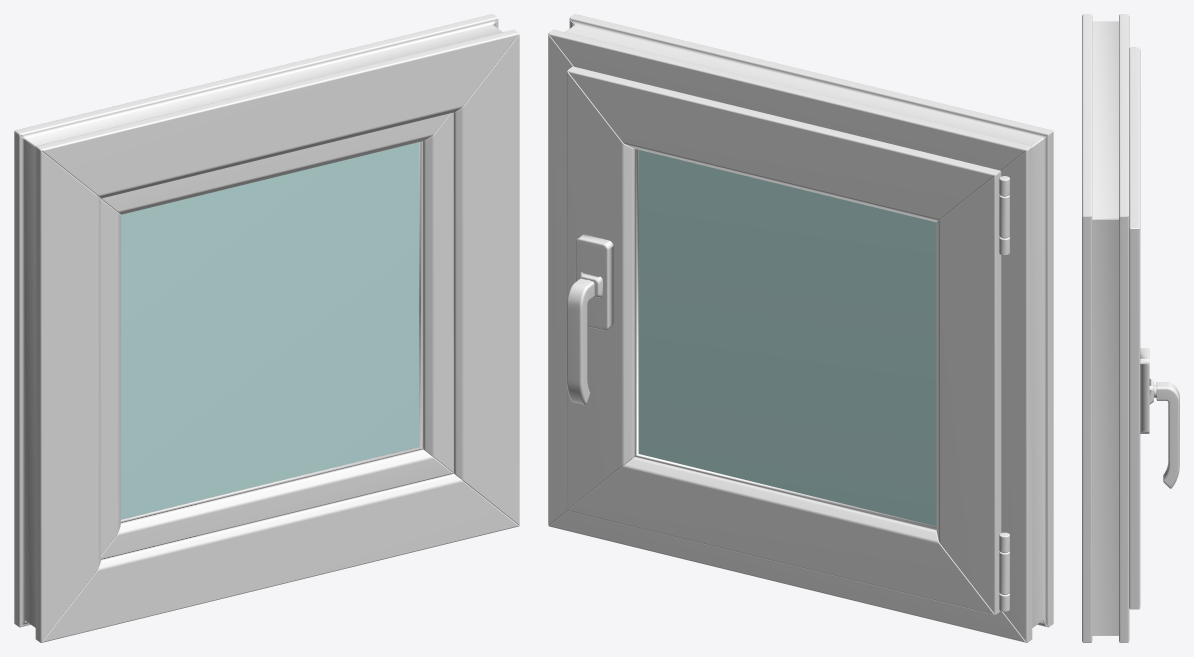
The model's file is VetanaBar.fbx.
3 renders of one model, left to right at view 1: azimuth 30°, elevation 25°; view 2: azimuth 150°, elevation 25°; view 3: azimuth 270°, elevation 25°, orthographic. The views are drawn at different scales.
Parts seen in each view (by area): view 1: Frame, Therm1, Frame1, Fused1; view 2: Frame1, Thermal_Gl, Frame, Grip_01, Grip_02, Fused, Hinge_02, Hinge_01; view 3: Frame, Frame1, Grip_02, Grip_01.
Part boxes in pixels (<box>): Frame: <box>14,14,519,642</box>; Therm1: <box>120,142,419,519</box>; Frame1: <box>100,113,452,558</box>; Fused1: <box>121,141,422,521</box>; Frame1: <box>567,66,1001,614</box>; Thermal_Gl: <box>638,150,936,526</box>; Frame: <box>548,14,1053,642</box>; Grip_01: <box>575,234,613,330</box>; Grip_02: <box>566,278,594,404</box>; Fused: <box>635,149,936,529</box>; Hinge_02: <box>999,532,1009,611</box>; Hinge_01: <box>999,176,1009,255</box>; Frame: <box>1082,14,1129,642</box>; Frame1: <box>1129,47,1140,609</box>; Grip_02: <box>1156,382,1179,488</box>; Grip_01: <box>1140,348,1156,433</box>.
Size of the model in its own units: 168 by 165 by 34.31.
